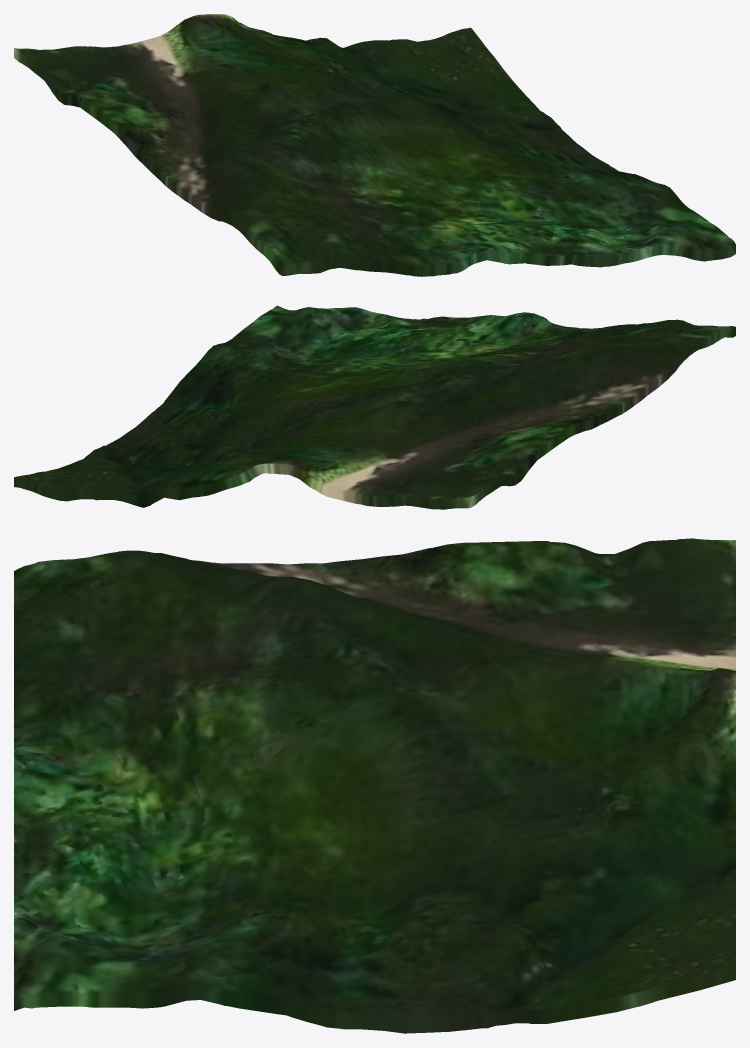
The model's file is z20-167562-405174-h0-yup-uvflip-v3-world.glb.
3 views of the same model, one above another, from view 1: azimuth 30°, elevation 25°; view 2: azimuth 150°, elevation 25°; view 3: azimuth 270°, elevation 25° (orthographic). The views are drawn at different scales.
Size of the model in its own units: 30.16 by 8.88 by 30.32.
1 material, 1 textured.
